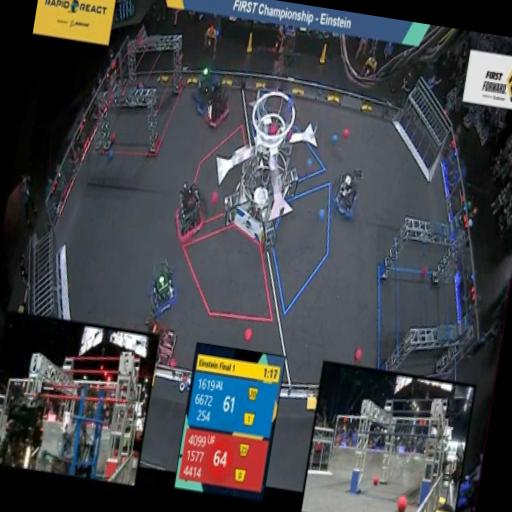robot: (167, 171, 212, 253), (136, 308, 182, 368), (141, 253, 181, 321), (326, 159, 366, 225), (185, 54, 224, 114), (200, 78, 238, 136)
